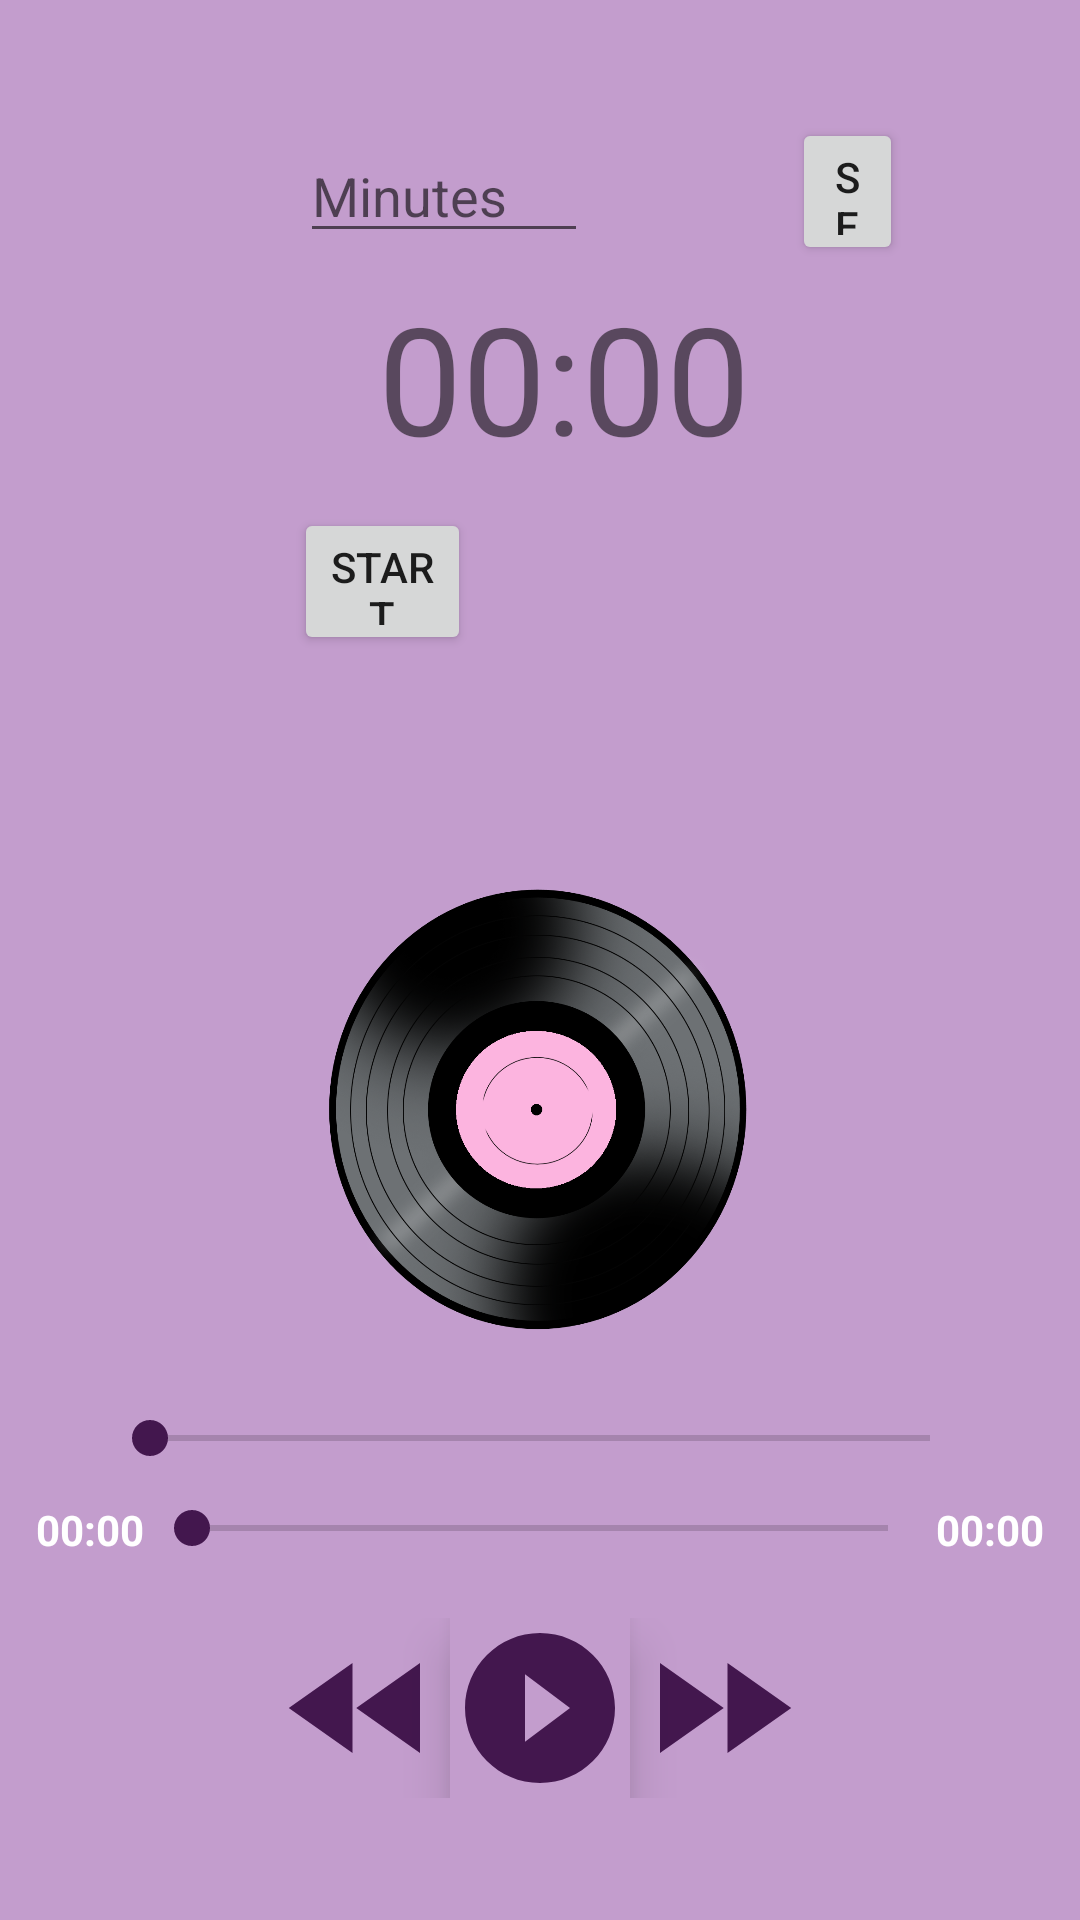

Where to tap for icons on this 1080x1920 app screen, as (x=x, y=y):
fast rewind: (x=354, y=1708)
shalom music fastforward ivbtn: (x=725, y=1708)
shalom play: (x=540, y=1708)
